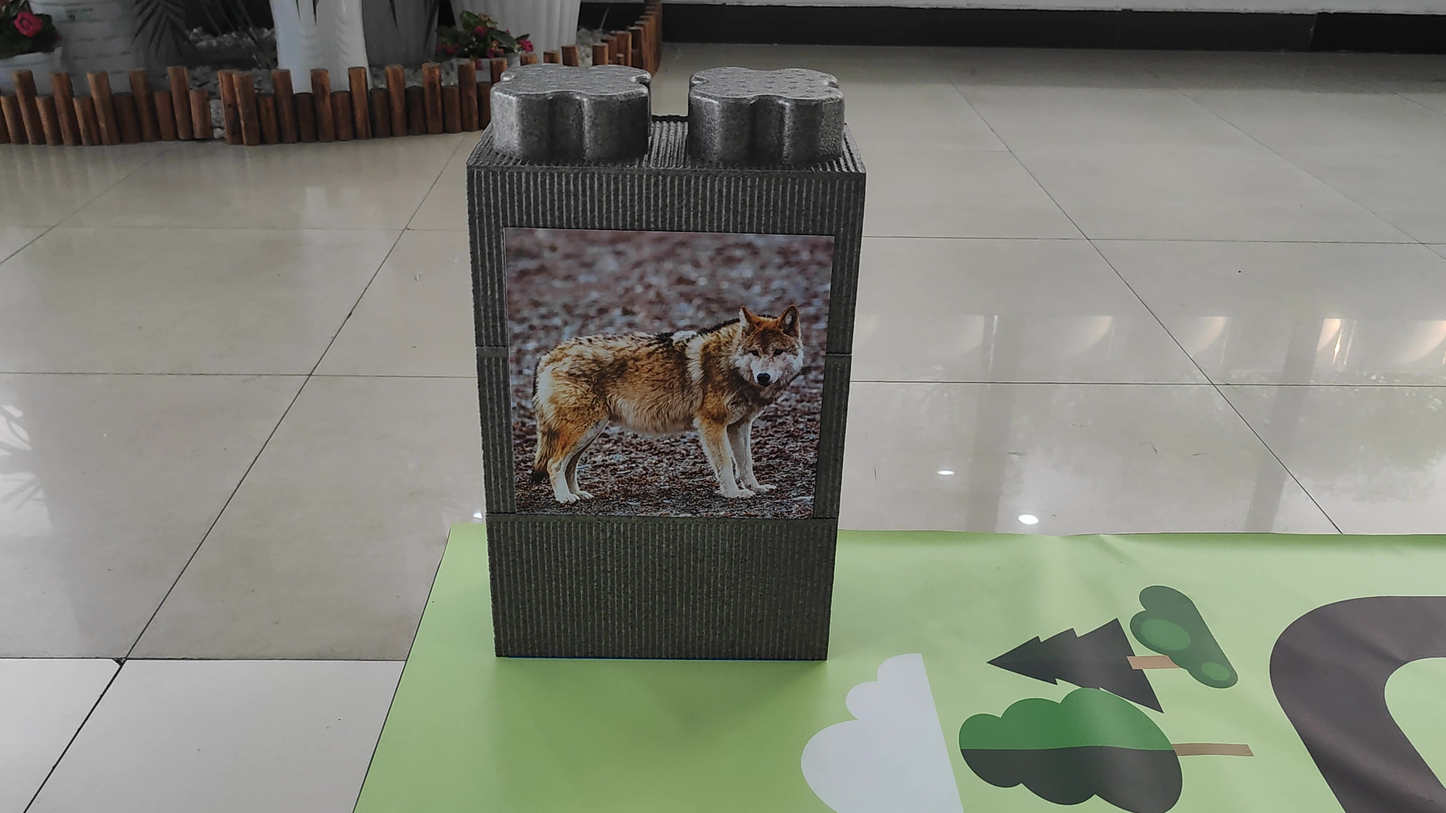wolf: (533, 275, 825, 538)
